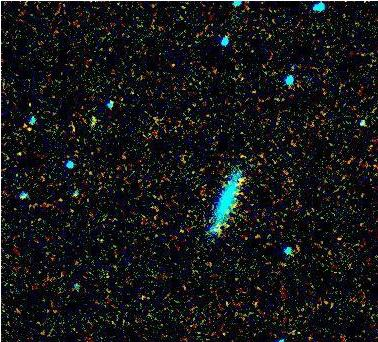star: (12, 108, 42, 138)
